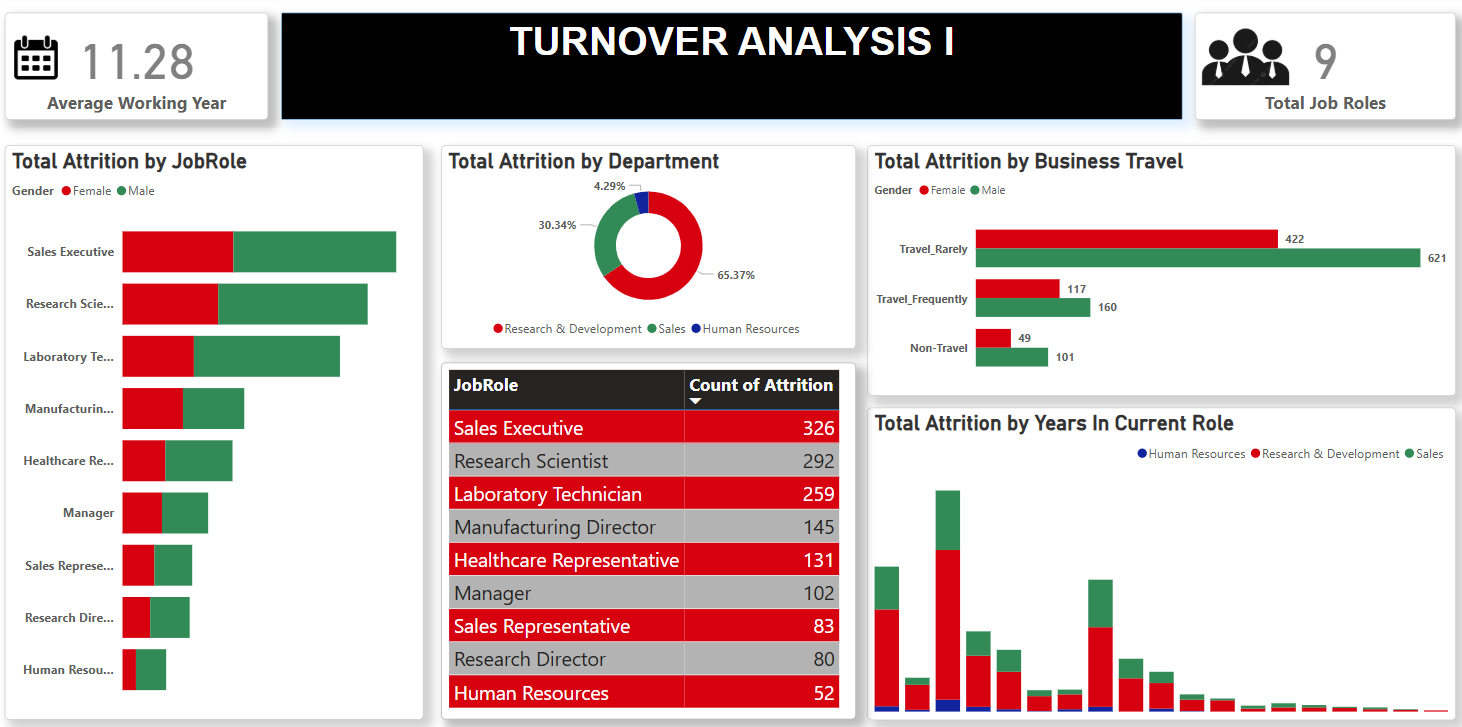

This screenshot's page, from the dashboard's own definition file:
{"tool":"powerbi","page":{"name":"Page 3","canvas":[1600,800],"ordinal":2},"visuals":[{"type":"textbox","box":[309.8,19,979.6,116.8],"z":0},{"type":"barChart","title":"Total Attrition by JobRole","fields":{"Category":["HR-Employee-Attrition.JobRole"],"Y":["CountNonNull(HR-Employee-Attrition.Attrition)"],"Series":["HR-Employee-Attrition.Gender"]},"box":[9,163.3,455.4,624.7],"z":1000},{"type":"clusteredBarChart","title":"Total Attrition by Business Travel ","fields":{"Category":["HR-Employee-Attrition.BusinessTravel"],"Y":["CountNonNull(HR-Employee-Attrition.Attrition)"],"Series":["HR-Employee-Attrition.Gender"]},"box":[946.8,163.3,639.7,272.7],"z":2000},{"type":"donutChart","title":"Total Attrition by Department","fields":{"Category":["HR-Employee-Attrition.Department"],"Y":["CountNonNull(HR-Employee-Attrition.Attrition)"]},"box":[483.9,163.3,450.9,221.7],"z":3000},{"type":"columnChart","title":"Total Attrition by Years In Current Role","fields":{"Category":["HR-Employee-Attrition.YearsInCurrentRole"],"Series":["HR-Employee-Attrition.Department"],"Y":["CountNonNull(HR-Employee-Attrition.Attrition)"]},"box":[946.8,447.9,639.7,340.1],"z":4000},{"type":"tableEx","fields":{"Values":["HR-Employee-Attrition.JobRole","HR-Employee-Attrition.Attrition"]},"box":[483.9,400,450.9,388],"z":5000},{"type":"card","title":"Total Employees","fields":{"Values":["Avg(HR-Employee-Attrition.TotalWorkingYears)"]},"box":[9.5,19,286.7,116.8],"z":6000},{"type":"card","title":"Total Employees","fields":{"Values":["Count(HR-Employee-Attrition.JobRole)"]},"box":[1303,19,284,116.8],"z":7000},{"type":"image","box":[9.5,34,67.9,67.9],"z":8000},{"type":"image","box":[1303,9.5,110.1,115.5],"z":9000}]}

Visuals, with their boxes in screenshot pixels (x1, y1, x2, y2), scaled from the page's 1600x800 canvas onto the 1462x727 screenshot:
textbox: bbox=(283, 17, 1178, 123)
"Total Attrition by JobRole" barChart: bbox=(8, 148, 424, 716)
"Total Attrition by Business Travel " clusteredBarChart: bbox=(865, 148, 1450, 396)
"Total Attrition by Department" donutChart: bbox=(442, 148, 854, 350)
"Total Attrition by Years In Current Role" columnChart: bbox=(865, 407, 1450, 716)
tableEx - HR-Employee-Attrition.JobRole x HR-Employee-Attrition.Attrition: bbox=(442, 364, 854, 716)
"Total Employees" card: bbox=(9, 17, 271, 123)
"Total Employees" card: bbox=(1191, 17, 1450, 123)
image: bbox=(9, 31, 71, 93)
image: bbox=(1191, 9, 1291, 114)
